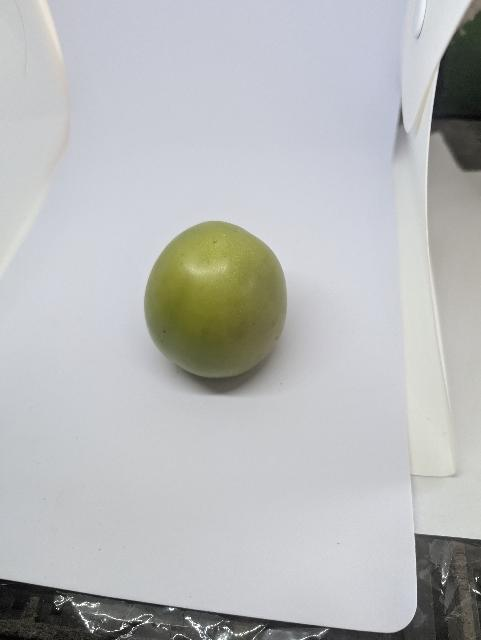green: (135, 216, 311, 398)
